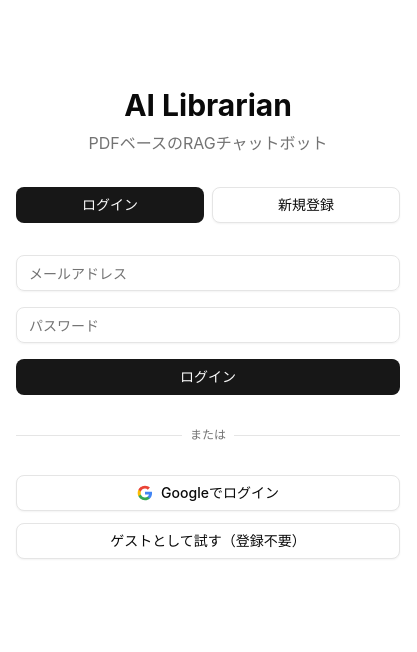
LoginPage sign-up flow › signUp 失敗でエラートーストを表示
Click the tab with test id "auth-mode-signup" at (306,205), box 212,187 -> 400,223
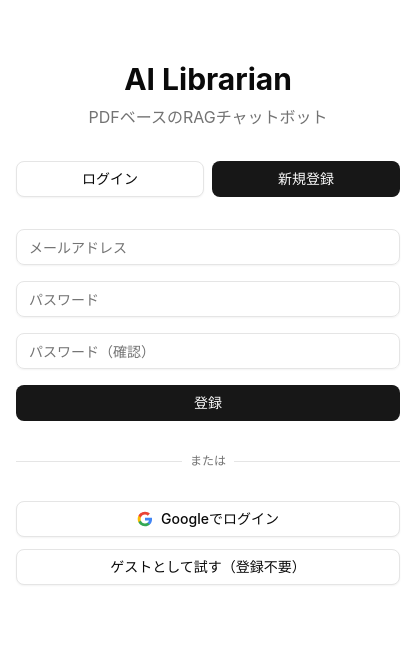
Type "user@example.com" into the field with test id "email" at (208,247), box 16,229 -> 400,265
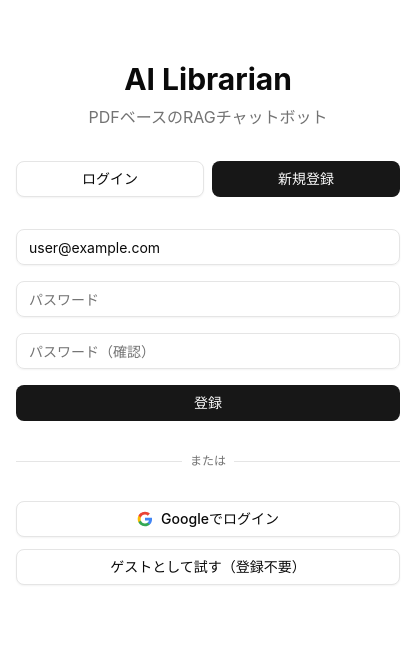
Type "password123" into the password field with test id "password" at (208,299), box 16,281 -> 400,317
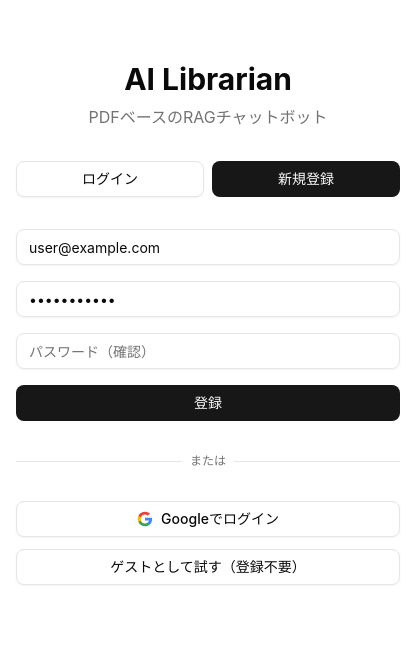
Type "password123" into the password field with test id "password-confirm" at (208,351), box 16,333 -> 400,369
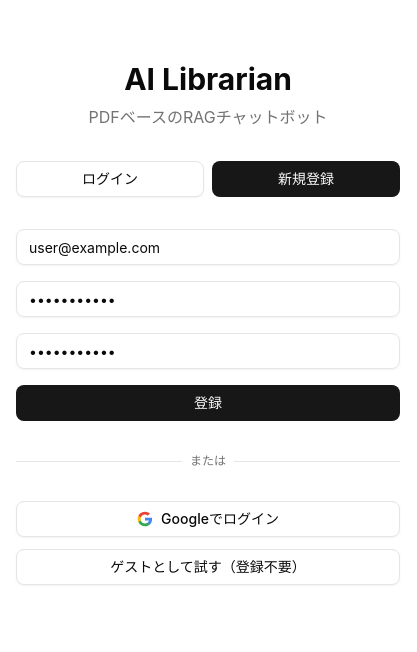
Click the button with test id "auth-submit" at (208,403), box 16,385 -> 400,421
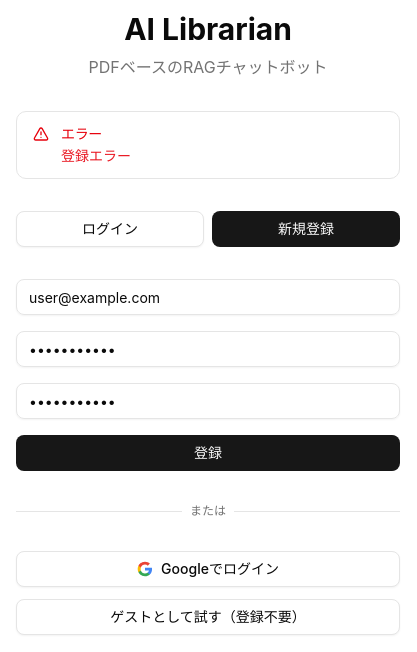
Expected: the text "登録エラー" is shown, 61,147 -> 131,164
